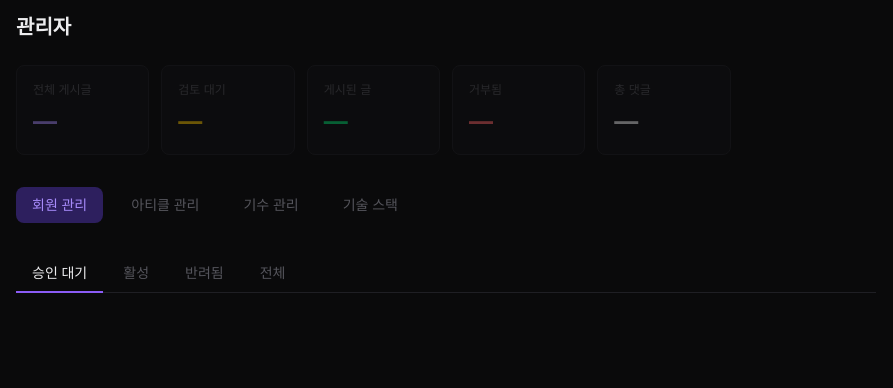
AdminPage - 아티클 관리 › PENDING_REVIEW 포스트에 발행/거부 버튼이 표시된다
Click the button "아티클 관리": (165, 205) x1=115 y1=187 x2=215 y2=223
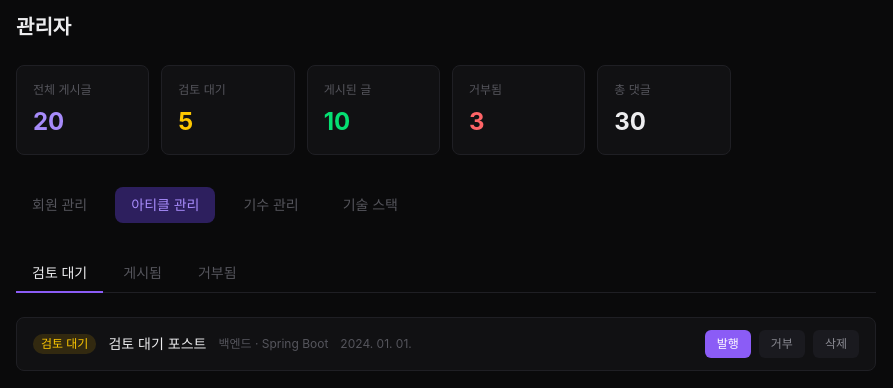
Expected: the link "검토 대기 포스트" is shown, x1=108 y1=334 x2=206 y2=354
Expected: the button "발행" is shown, x1=705 y1=330 x2=751 y2=358
Expected: the button "거부" is shown, x1=759 y1=330 x2=805 y2=358
